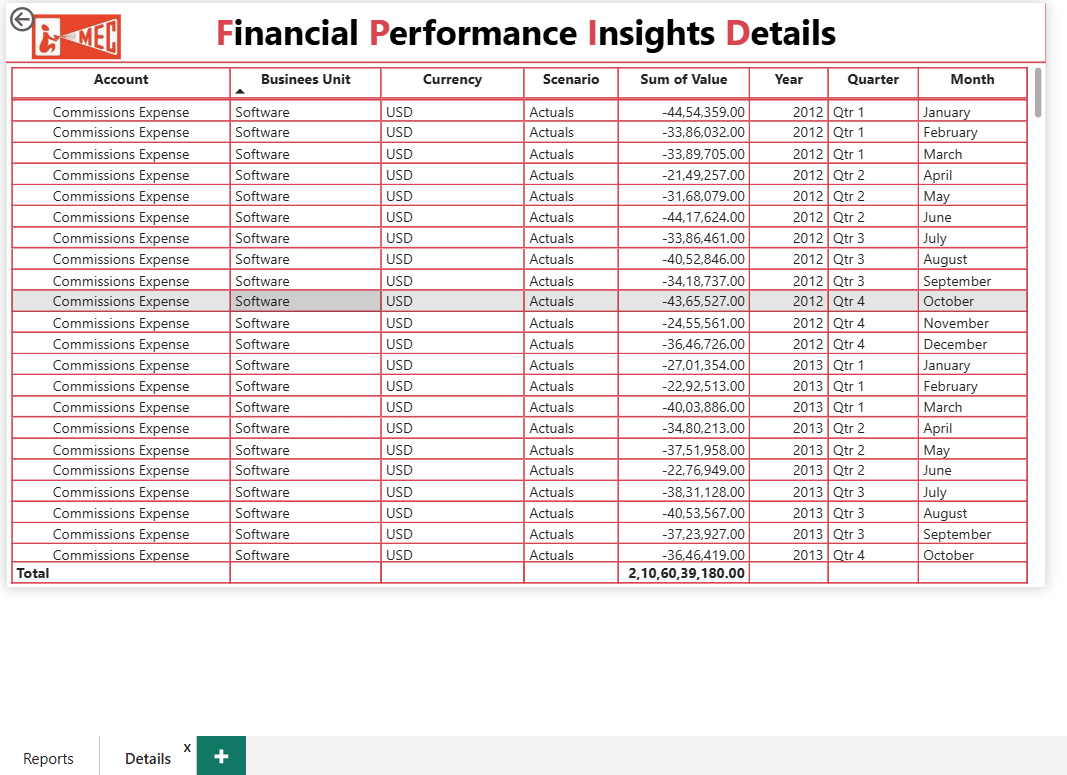

The page's visual inventory and layout, read from the dashboard file:
{"tool":"powerbi","page":{"name":"Details","canvas":[1280,720],"ordinal":3},"visuals":[{"type":"tableEx","fields":{"Values":["Financials.Account","Financials.Businees Unit","Financials.Currency","Financials.Scenario","Sum(Financials.Value)","Financials.Date.Variation.Date Hierarchy.Year","Financials.Date.Variation.Date Hierarchy.Quarter","Financials.Date.Variation.Date Hierarchy.Month"]},"box":[0,74.4,1279.8,645.6],"z":0},{"type":"textbox","box":[0,0,1279.5,72],"z":1000},{"type":"image","box":[6.5,9.7,160.2,64.7],"z":2000},{"type":"actionButton","box":[0,0,100,40],"z":3000}]}

Visuals, with their boxes on the page's 1280x720 design canvas (x1, y1, x2, y2). These are canvas units, not pixel positions in the 1067x775 screenshot, which may show the page scaled, cropped or inside an application window:
tableEx - Financials.Account x Financials.Businees Unit: rect(0, 74, 1280, 720)
textbox: rect(0, 0, 1280, 72)
image: rect(6, 10, 167, 74)
actionButton: rect(0, 0, 100, 40)
